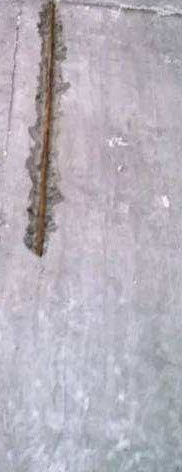Exposed reinforcement: (35, 3, 56, 258)
Spalling: (23, 1, 71, 258)
